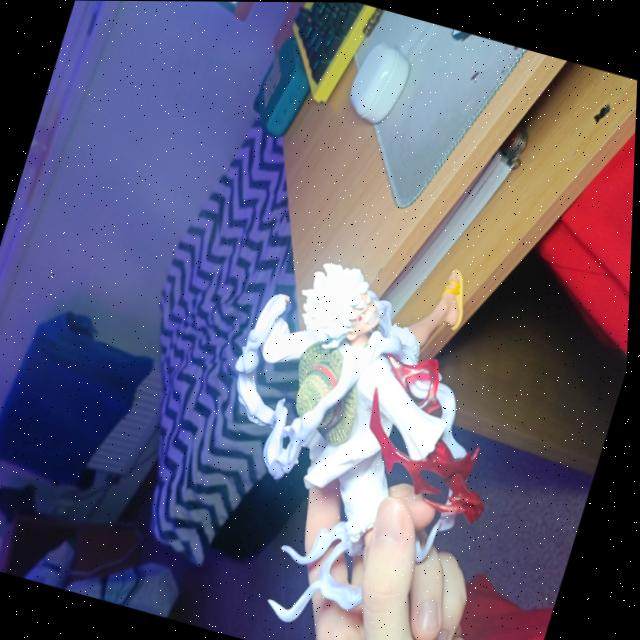luffy: (167, 217, 552, 640)
